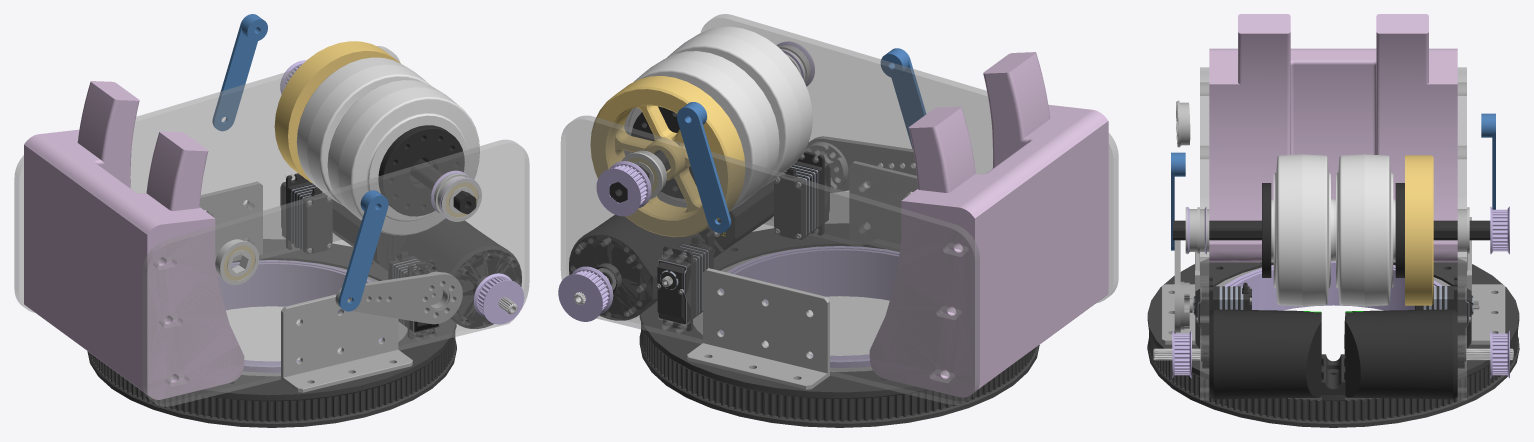
The picture shows the model from 3 angles, left to right: view 1: azimuth 30°, elevation 25°; view 2: azimuth 150°, elevation 25°; view 3: azimuth 270°, elevation 25°; orthographic projection. The views are drawn at different scales.
Visible parts, largest first — view 1: TurretSidePlate (×2), Part 1, 4" Colson Performa Wheel (1.5" WD, 1.1875" Bore) (×2), Turret Side Brackets (×2), Turret Bearing Pulley Top Half, Kraken X60 Brushless Motor (×2), Turret Bearing Pulley Bottom Half, newTPU Link (×2), Colson Dead Hub, Bearing Flange, 4" Brass Flywheel (1/2" Triangle Bore), Aluminum Hub-Mount Control Arm (14mm Bore, 72mm Length) 1914 (+8 smaller); view 2: TurretSidePlate (×2), Part 1, Turret Side Brackets (×2), 4" Colson Performa Wheel (1.5" WD, 1.1875" Bore) (×2), 4" Brass Flywheel (1/2" Triangle Bore), Turret Bearing Pulley Top Half, Kraken X60 Brushless Motor (×2), Turret Bearing Pulley Bottom Half, Bearing Flange, newTPU Link (×2), DDJ-STDCAR6-T3 (×2), DDJ-STDCAR6-M (×2) (+8 smaller); view 3: Part 1, Kraken X60 Brushless Motor (×2), 4" Colson Performa Wheel (1.5" WD, 1.1875" Bore) (×2), Turret Bearing Pulley Top Half, TurretSidePlate (×2), Turret Bearing Pulley Bottom Half, 4" Brass Flywheel (1/2" Triangle Bore), Turret Side Brackets (×2), Shaft, 1/2" Hex Bore Bearing (1.125" OD, 0.313" WD, Shielded, Flang (×4), Bearing Flange, DDJ-STDCAR6-T3 (×2) (+8 smaller).
Part boxes in pixels (x1,y1,x2,y2): TurretSidePlate (×2): (14,46,529,406); Part 1: (24,81,244,399); 4" Colson Performa Wheel (1.5" WD, 1.1875" Bore) (×2): (296,57,479,235); Turret Side Brackets (×2): (200,181,412,392); Turret Bearing Pulley Top Half: (102,239,456,410); Kraken X60 Brushless Motor (×2): (332,199,521,328); Turret Bearing Pulley Bottom Half: (87,337,456,427); newTPU Link (×2): (212,14,388,311); Colson Dead Hub: (378,125,464,216); Bearing Flange: (218,262,345,363); 4" Brass Flywheel (1/2" Triangle Bore): (274,41,400,183); Aluminum Hub-Mount Control Arm (14mm Bore, 72mm Length) 1914: (335,272,462,324); TurretSidePlate (×2): (560,14,1118,404); Part 1: (869,52,1108,397); Turret Side Brackets (×2): (687,161,917,389); 4" Colson Performa Wheel (1.5" WD, 1.1875" Bore) (×2): (624,26,812,211); 4" Brass Flywheel (1/2" Triangle Bore): (590,76,745,237); Turret Bearing Pulley Top Half: (639,223,1024,409); Kraken X60 Brushless Motor (×2): (569,180,774,320); Turret Bearing Pulley Bottom Half: (639,326,1039,427); Bearing Flange: (720,248,898,357); newTPU Link (×2): (677,48,926,232); DDJ-STDCAR6-T3 (×2): (657,151,830,331); DDJ-STDCAR6-M (×2): (670,163,820,317); Part 1: (1209,14,1457,262); Kraken X60 Brushless Motor (×2): (1153,309,1513,399); 4" Colson Performa Wheel (1.5" WD, 1.1875" Bore) (×2): (1271,154,1395,306); Turret Bearing Pulley Top Half: (1147,259,1519,410); TurretSidePlate (×2): (1200,67,1466,400); Turret Bearing Pulley Bottom Half: (1147,335,1519,427); 4" Brass Flywheel (1/2" Triangle Bore): (1405,155,1433,305); Turret Side Brackets (×2): (1161,217,1505,344); Shaft: (1173,220,1490,240); 1/2" Hex Bore Bearing (1.125" OD, 0.313" WD, Shielded, Flang (×4): (1176,100,1469,253); Bearing Flange: (1230,261,1435,361); DDJ-STDCAR6-T3 (×2): (1193,276,1473,348).
Bounding box in the file's own units: 0.2955 × 0.2013 × 0.2475.
